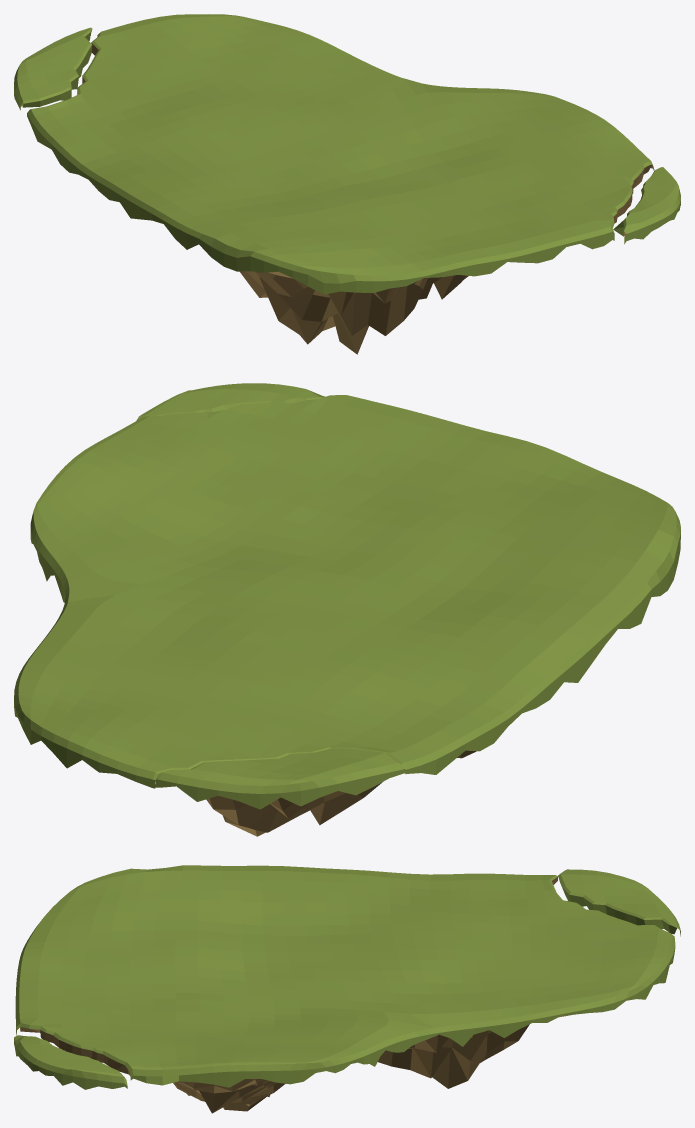
Rendered from platforme_grand_v2.fbx.
3 views of the same model, one above another, from view 1: azimuth 30°, elevation 25°; view 2: azimuth 150°, elevation 25°; view 3: azimuth 270°, elevation 25° (orthographic). The views are drawn at different scales.
Parts seen in each view (by area): view 1: Plane.002; view 2: Plane.002; view 3: Plane.002.
Boxes of the visible parts, x1,y1,x2,y2 form: Plane.002: (14, 14, 680, 354); Plane.002: (14, 383, 680, 836); Plane.002: (14, 865, 680, 1113).
Size of the model in its own units: 1130 by 408 by 1510.
